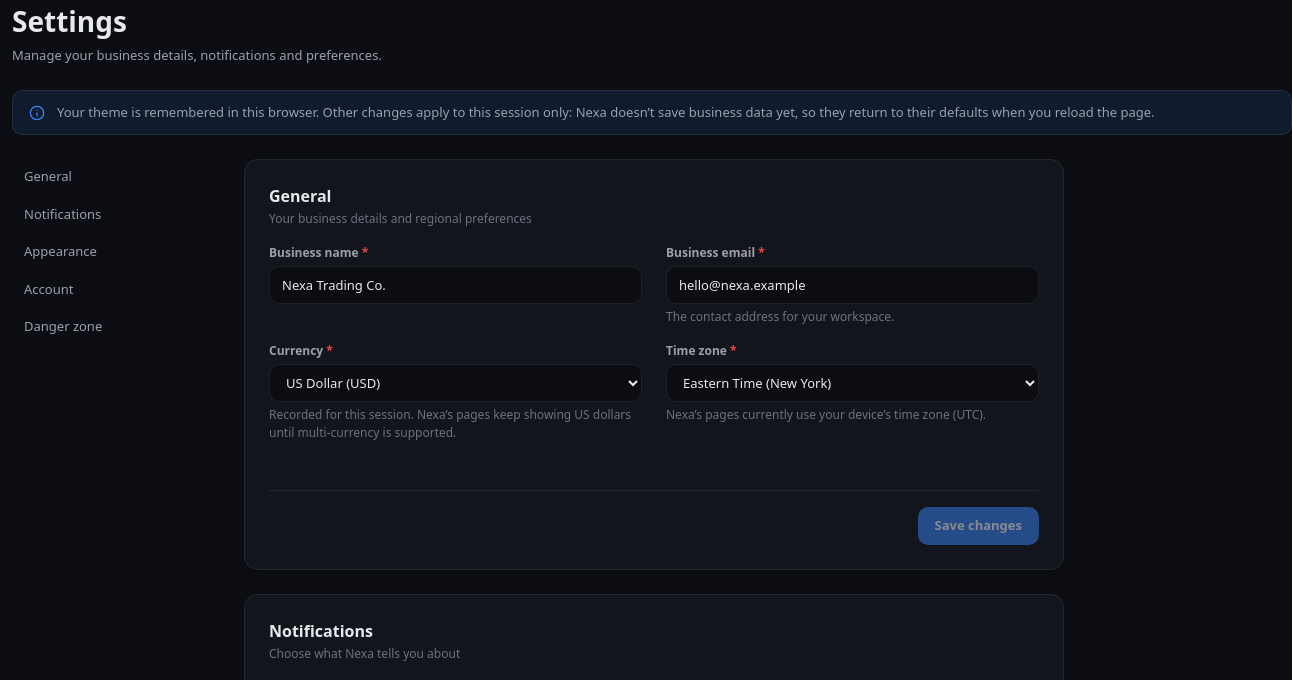
General settings: validation › saved values do flow to the parts of the page that display them
This screenshot has width=1292, height=680.
Replace the text in the field labelled "Business name" with "Acme Trading" at (456, 285), box [269, 266, 642, 304]
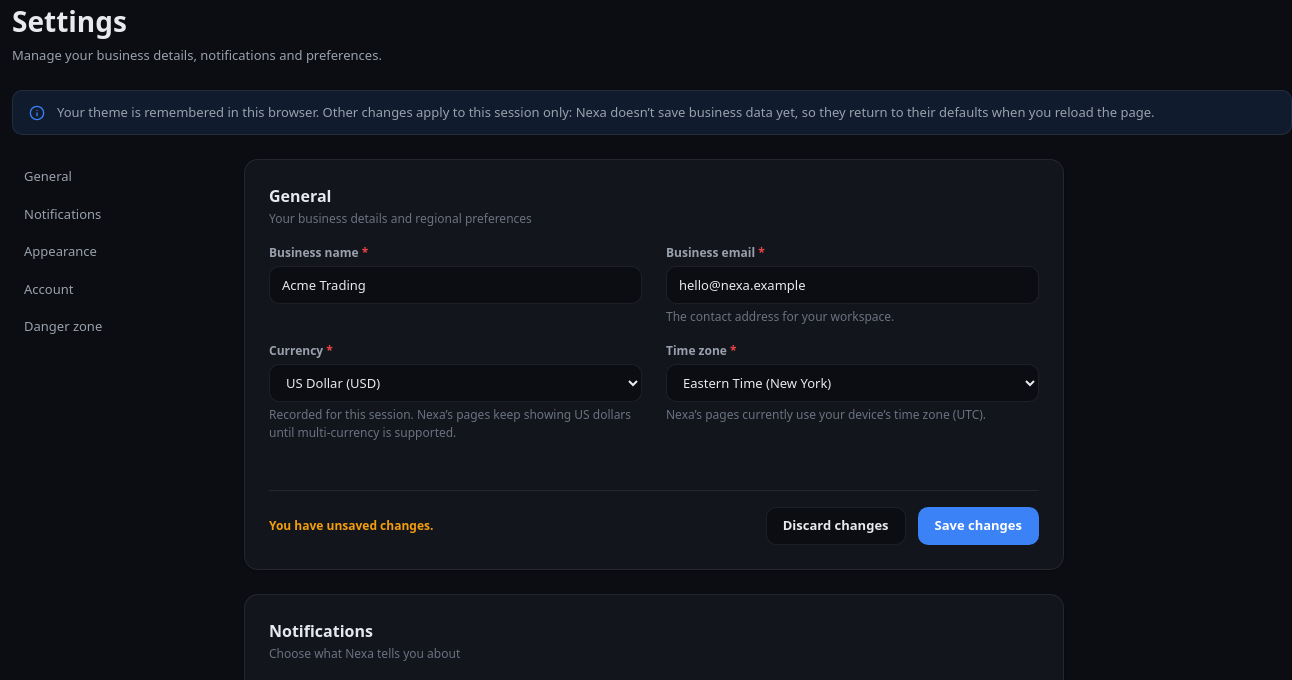
Replace the text in the field labelled "Business email" with "team@acme.example" at (852, 285), box [666, 266, 1039, 304]
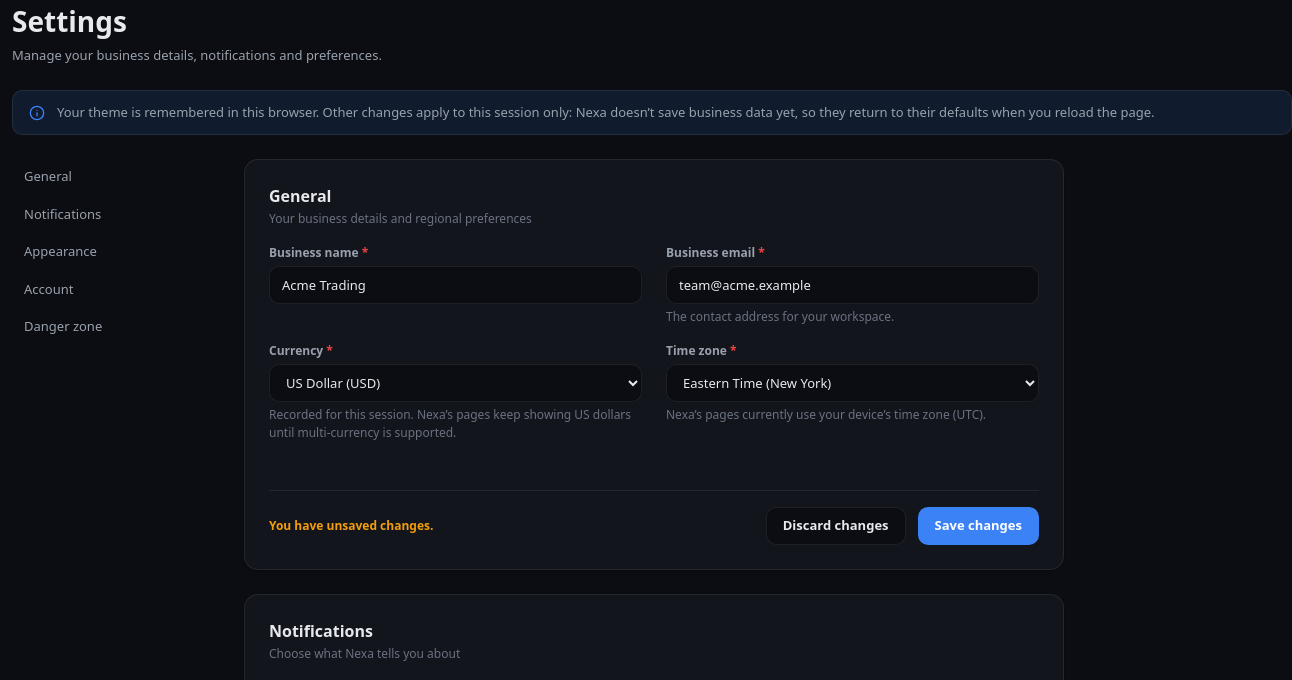
Click the button "Save changes" at (978, 526), box [918, 507, 1039, 545]
(page scrolled)
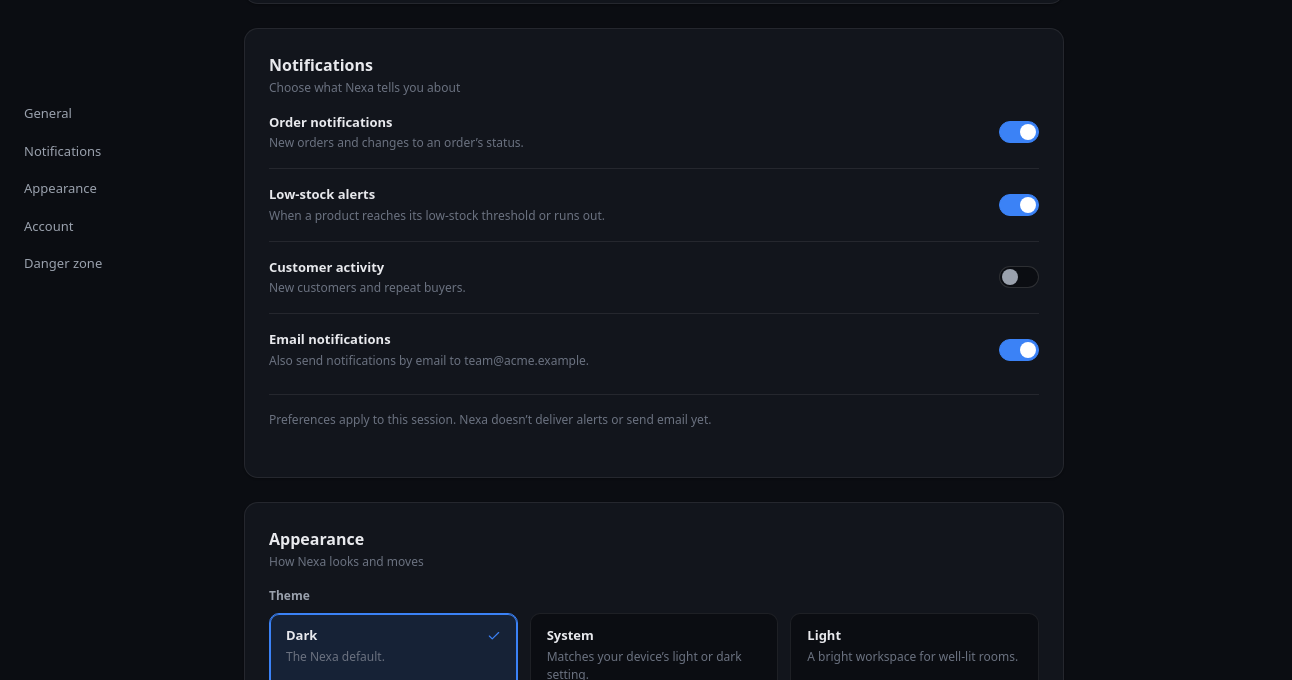
Now the text "Also send notifications by email to team@acme.example." is shown, box [269, 352, 589, 370]
